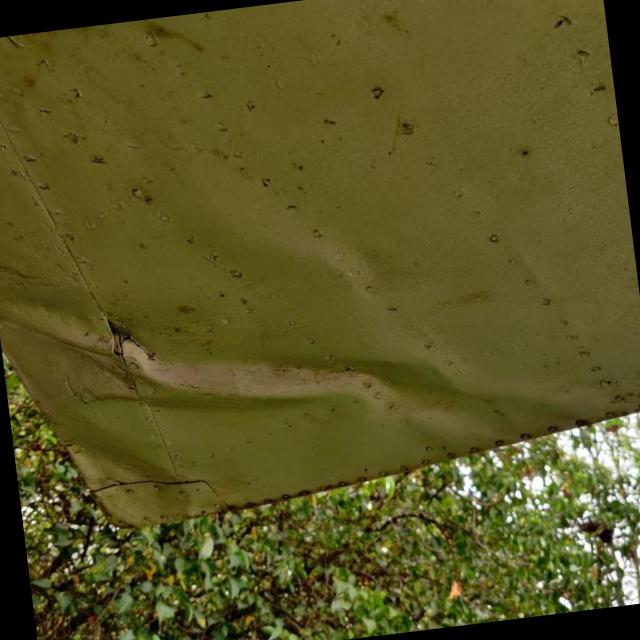Crack: (106, 319, 135, 356)
Dent: (0, 160, 608, 480), (68, 447, 222, 527)
